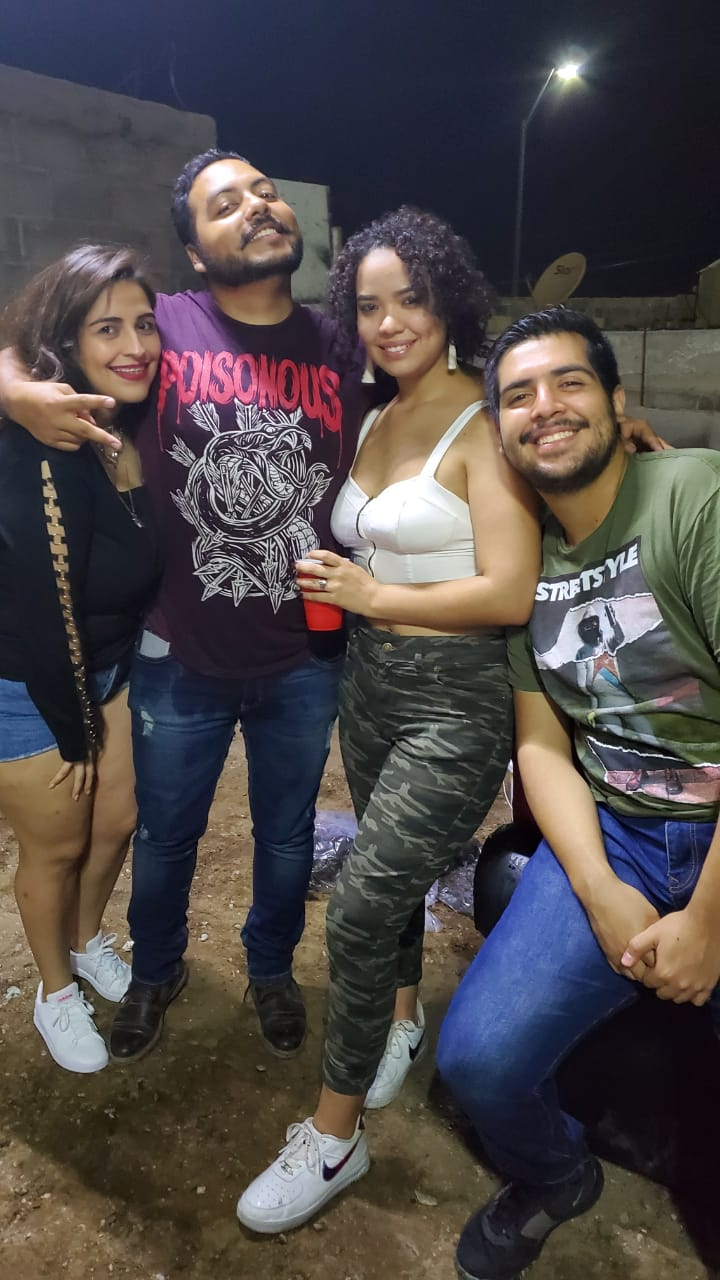Yoshi: (145, 115, 315, 309)
